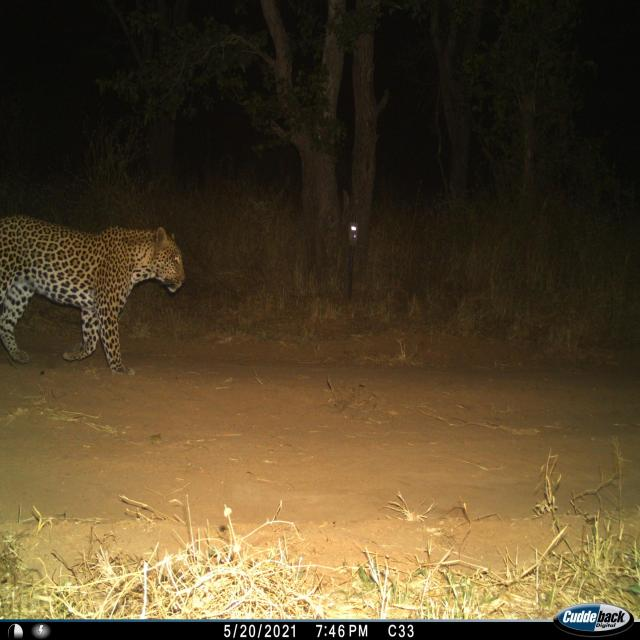Leopard: (0, 206, 181, 389)
